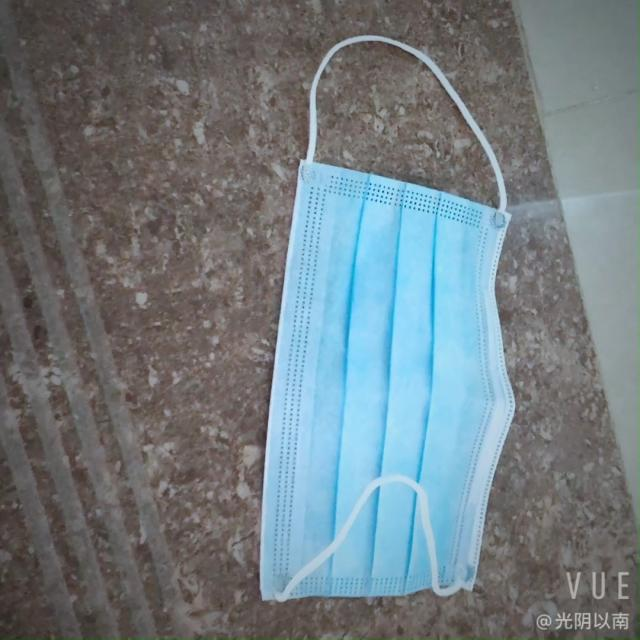non-organic waste: (250, 162, 514, 599)
